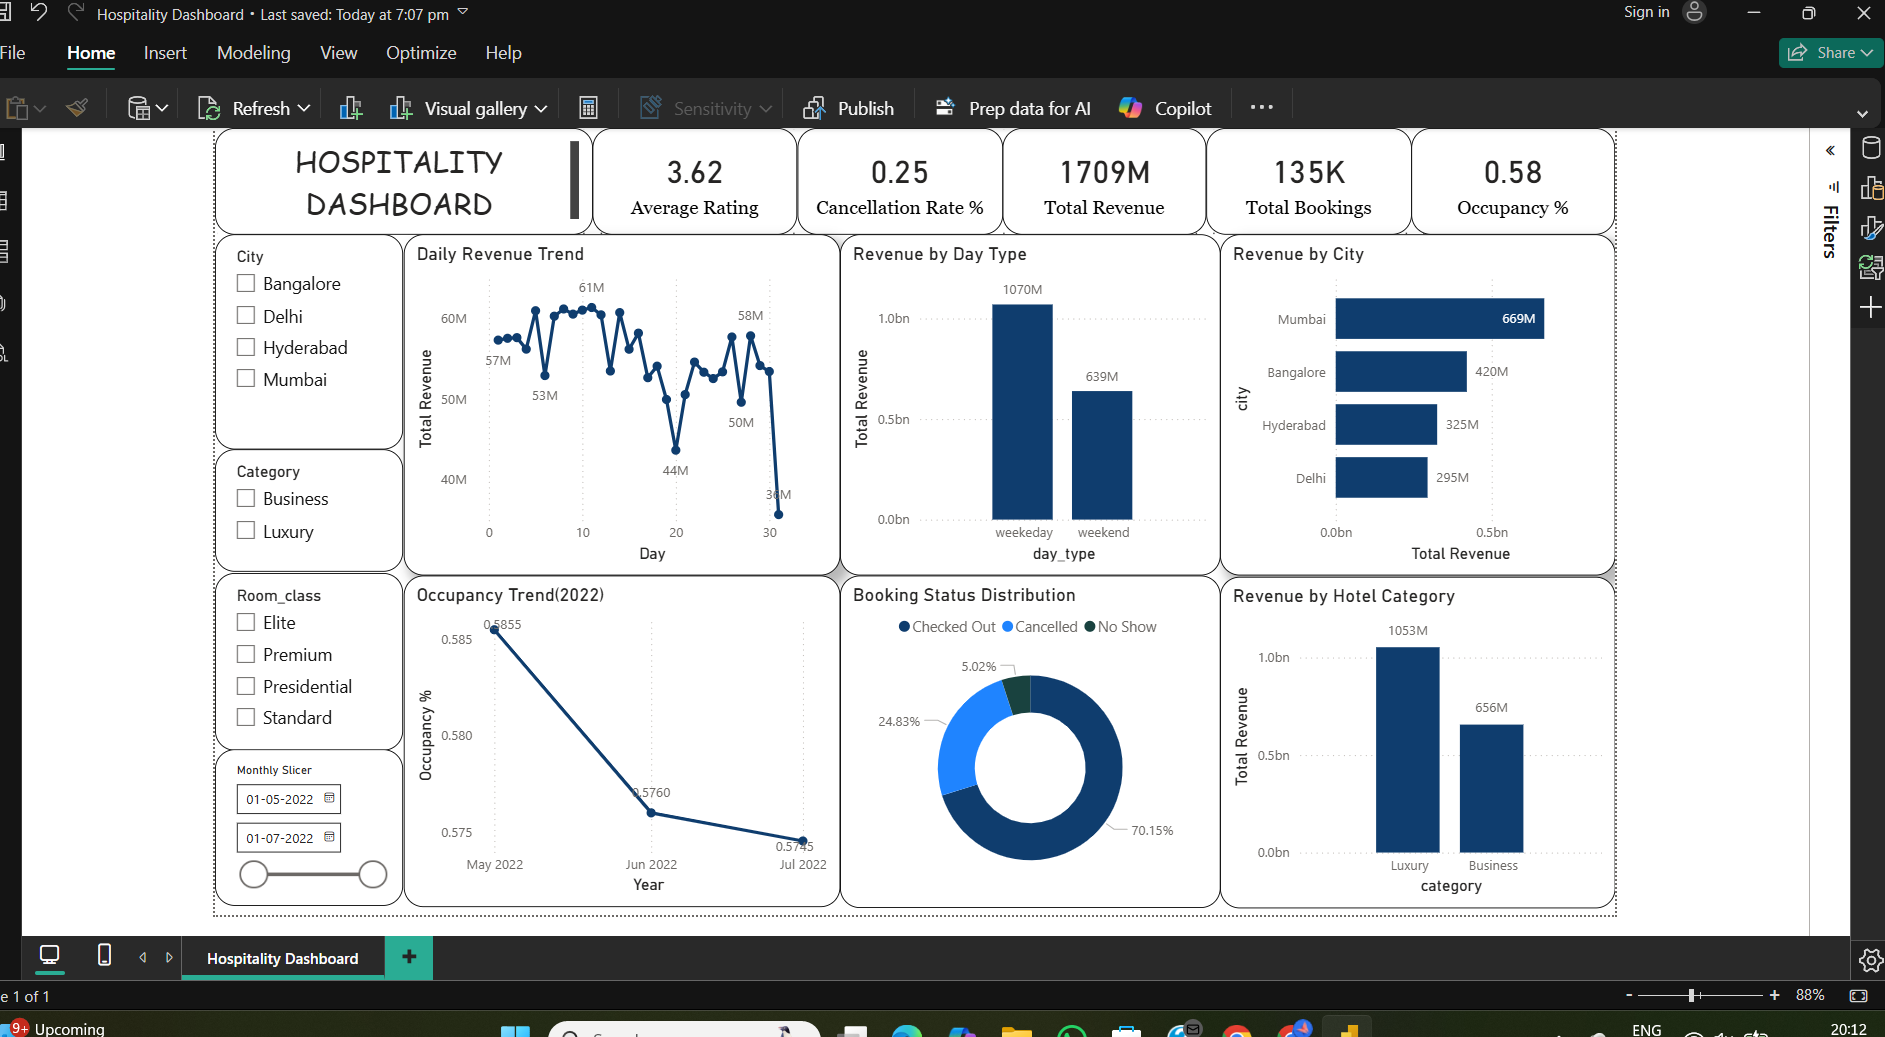

The page's visual inventory and layout, read from the dashboard file:
{"tool":"powerbi","page":{"name":"Hospitality Dashboard","canvas":[1280,720],"ordinal":0},"visuals":[{"type":"card","fields":{"Values":["Dashboard_Measures.Total Revenue"]},"box":[720,0,186.2,97.5],"z":0},{"type":"card","fields":{"Values":["Dashboard_Measures.Total Bookings"]},"box":[906.2,0,187.6,97.5],"z":1000},{"type":"card","fields":{"Values":["Dashboard_Measures.Occupancy %"]},"box":[1093.8,0,186.2,97.5],"z":2000},{"type":"card","fields":{"Values":["Dashboard_Measures.Cancellation Rate %"]},"box":[532.4,0,187.6,97.5],"z":3000},{"type":"card","fields":{"Values":["Dashboard_Measures.Average Rating"]},"box":[345.4,0,187,97.2],"z":4000},{"type":"lineChart","title":"Daily Revenue Trend","fields":{"Category":["dim_date.date.Variation.Date Hierarchy.Year","dim_date.date.Variation.Date Hierarchy.Quarter","dim_date.date.Variation.Date Hierarchy.Month","dim_date.date.Variation.Date Hierarchy.Day"],"Y":["Dashboard_Measures.Total Revenue"]},"box":[172.1,97.2,399,311.7],"z":5000},{"type":"barChart","title":"Revenue by City","fields":{"Category":["dim_hotels.city"],"Y":["Dashboard_Measures.Total Revenue"]},"box":[918.9,97.2,361.6,311.7],"z":6000},{"type":"donutChart","title":"Booking Status Distribution","fields":{"Category":["fact_bookings.booking_status"],"Y":["Dashboard_Measures.Booking Count"]},"box":[571,408.9,347.8,304.2],"z":7000},{"type":"columnChart","title":"Revenue by Day Type","fields":{"Category":["dim_date.day_type"],"Y":["Dashboard_Measures.Total Revenue"]},"box":[571,97.2,347.8,311.7],"z":8000},{"type":"lineStackedColumnComboChart","title":"Revenue by Hotel Category","fields":{"Category":["dim_hotels.category"],"Y":["Dashboard_Measures.Total Revenue"]},"box":[918.9,410.2,361.6,303],"z":9000},{"type":"lineChart","title":"Occupancy Trend(2022)","fields":{"Y":["Dashboard_Measures.Occupancy %"],"Category":["dim_date.date.Variation.Date Hierarchy.Year","dim_date.date.Variation.Date Hierarchy.Quarter","dim_date.date.Variation.Date Hierarchy.Month","dim_date.date.Variation.Date Hierarchy.Day"]},"box":[172.1,408.9,399,303],"z":10000},{"type":"slicer","fields":{"Values":["dim_hotels.city"]},"box":[0,97.2,172.1,197],"z":11000},{"type":"slicer","fields":{"Values":["dim_hotels.category"]},"box":[0,294.2,172.1,112.2],"z":12000},{"type":"slicer","fields":{"Values":["dim_rooms.room_class"]},"box":[0,406.4,172.1,162.1],"z":13000},{"type":"textbox","box":[0,0,345.4,97.2],"z":14000},{"type":"slicer","fields":{"Values":["dim_date.mmm yy"]},"box":[0,568.5,172.1,143.4],"z":15000}]}

Visuals, with their boxes on the page's 1280x720 design canvas (x1, y1, x2, y2). These are canvas units, not pixel positions in the 1885x1037 screenshot, which may show the page scaled, cropped or inside an application window:
card - Dashboard_Measures.Total Revenue: box=[720, 0, 906, 98]
card - Dashboard_Measures.Total Bookings: box=[906, 0, 1094, 98]
card - Dashboard_Measures.Occupancy %: box=[1094, 0, 1280, 98]
card - Dashboard_Measures.Cancellation Rate %: box=[532, 0, 720, 98]
card - Dashboard_Measures.Average Rating: box=[345, 0, 532, 97]
"Daily Revenue Trend" lineChart: box=[172, 97, 571, 409]
"Revenue by City" barChart: box=[919, 97, 1280, 409]
"Booking Status Distribution" donutChart: box=[571, 409, 919, 713]
"Revenue by Day Type" columnChart: box=[571, 97, 919, 409]
"Revenue by Hotel Category" lineStackedColumnComboChart: box=[919, 410, 1280, 713]
"Occupancy Trend(2022)" lineChart: box=[172, 409, 571, 712]
slicer - dim_hotels.city: box=[0, 97, 172, 294]
slicer - dim_hotels.category: box=[0, 294, 172, 406]
slicer - dim_rooms.room_class: box=[0, 406, 172, 568]
textbox: box=[0, 0, 345, 97]
slicer - dim_date.mmm yy: box=[0, 568, 172, 712]
